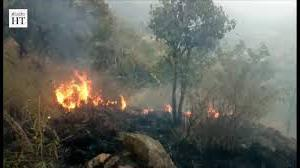fire: (48, 65, 121, 113)
